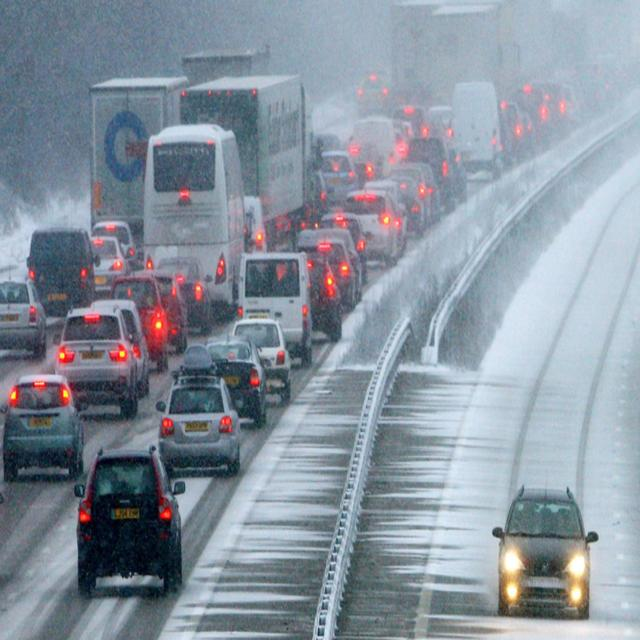bus: (186, 78, 308, 231), (90, 72, 178, 238), (436, 8, 494, 141), (389, 7, 437, 119)
car: (75, 444, 183, 599), (496, 487, 594, 619), (54, 305, 144, 420), (1, 369, 81, 481), (156, 376, 242, 479), (240, 252, 310, 366), (28, 227, 94, 317), (114, 275, 172, 371), (231, 315, 291, 405), (210, 344, 266, 426), (453, 82, 502, 173), (0, 276, 48, 362), (344, 192, 395, 260), (160, 257, 213, 320), (406, 142, 452, 209), (326, 216, 367, 284), (311, 237, 354, 301), (308, 258, 340, 337), (354, 116, 396, 168), (573, 60, 607, 116), (388, 177, 422, 230), (520, 80, 548, 142), (322, 151, 357, 194), (92, 237, 122, 287), (356, 71, 390, 110), (539, 75, 564, 126), (128, 303, 142, 394), (103, 219, 137, 256), (421, 104, 453, 143), (164, 272, 182, 339), (505, 97, 523, 157), (347, 145, 379, 178), (448, 150, 466, 201), (423, 158, 437, 212), (394, 103, 422, 130), (560, 84, 577, 122), (519, 109, 533, 153)
truck: (143, 123, 244, 324)
